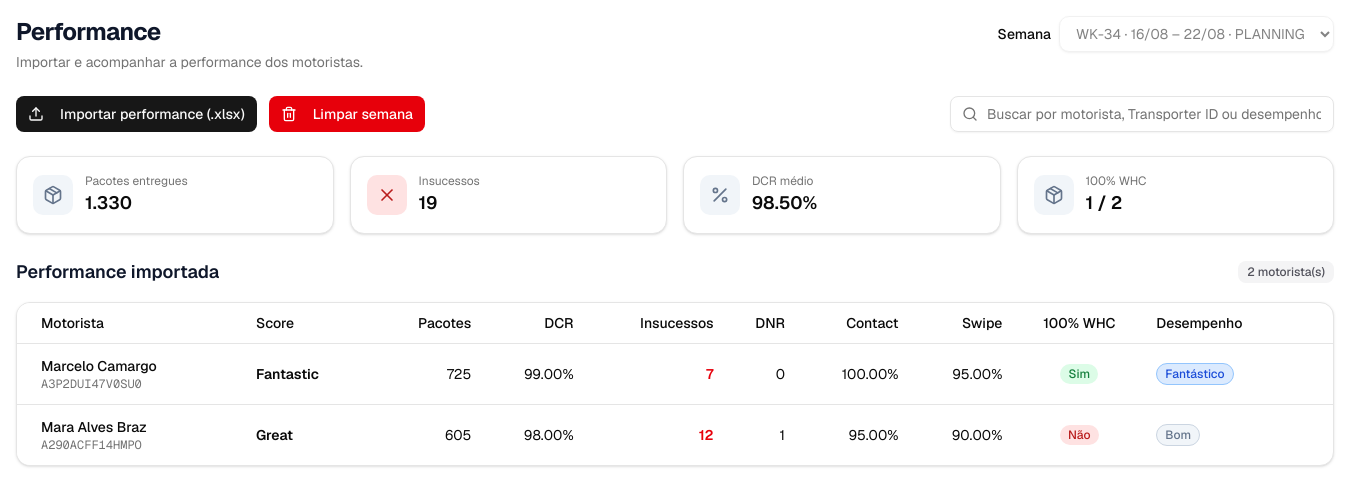
PerformanceClient › filters snapshots by search query
Check: the text "Marcelo Camargo" is shown, box [41,356,157,374]
Check: the text "Mara Alves Braz" is shown, box [41,418,147,436]
Type "Mara" into the field named "Buscar performance" at point(1142, 114), box [950,96,1334,132]
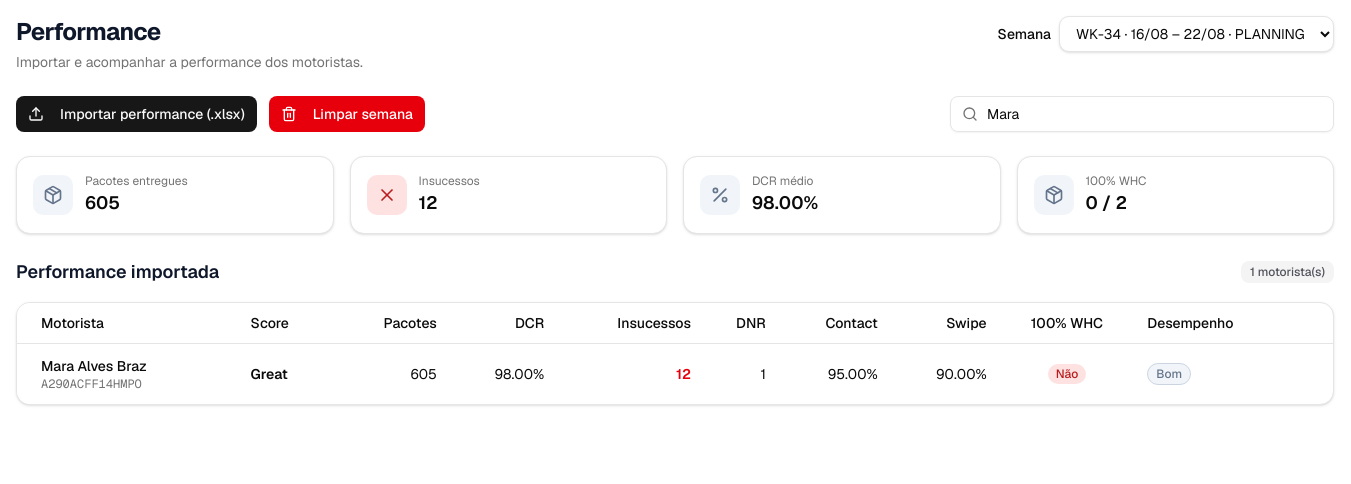
Check: the text "Marcelo Camargo" is gone
Check: the text "Mara Alves Braz" is shown, box [41,356,147,374]
Replace the text in the field named "Buscar performance" with "A3P2" at point(1142, 114), box [950,96,1334,132]
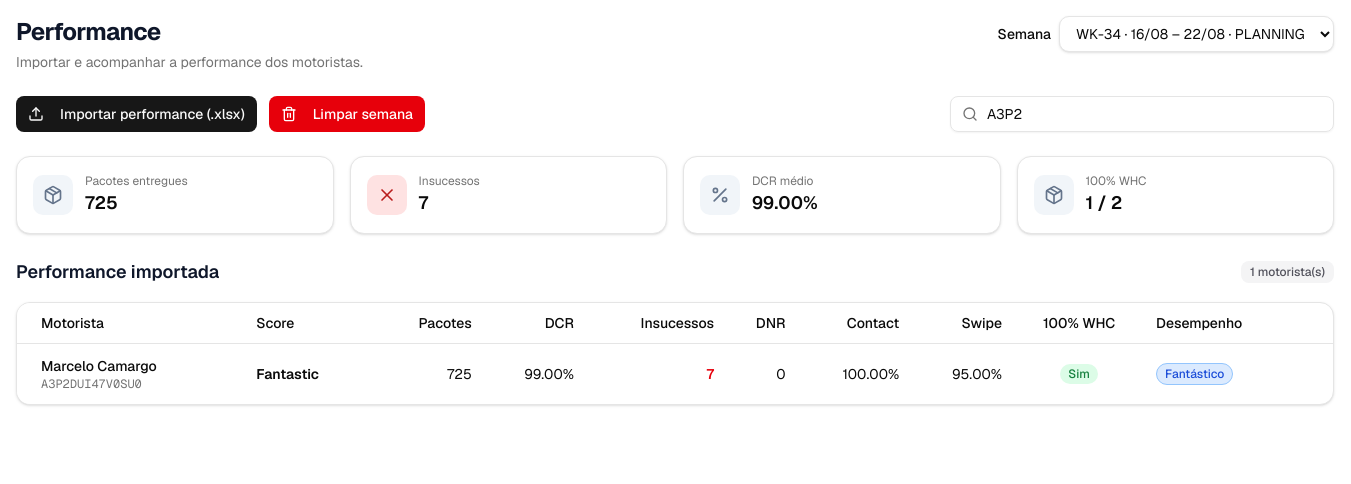
Check: the text "Marcelo Camargo" is shown, box [41,356,157,374]
Check: the text "Mara Alves Braz" is gone
